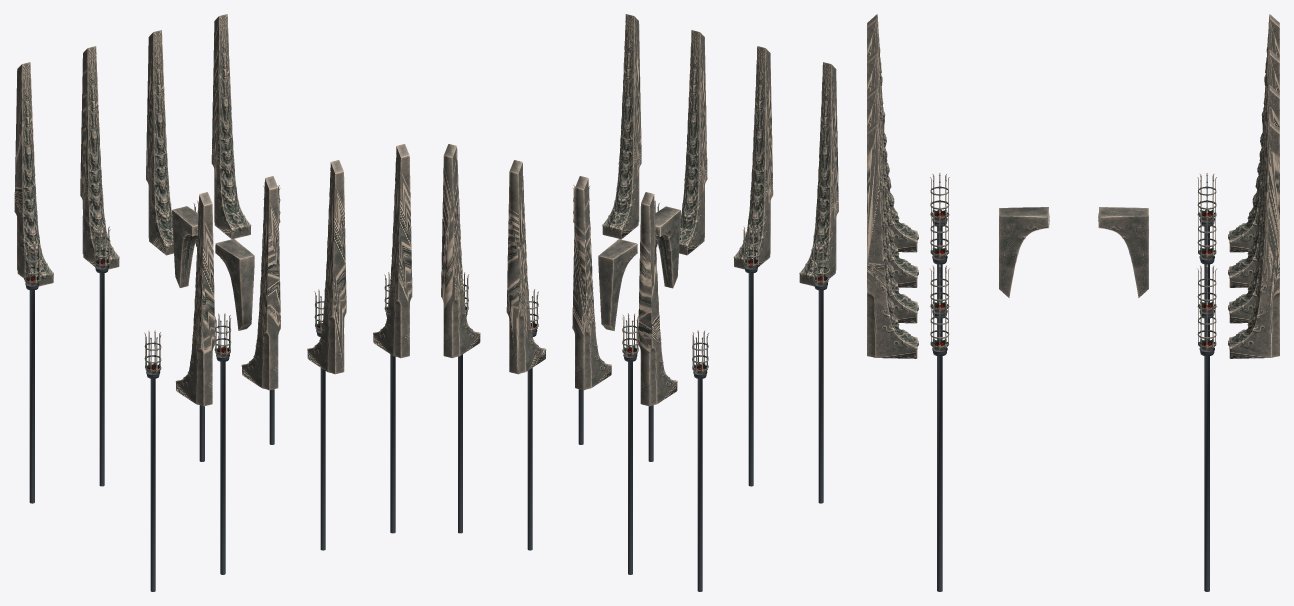
File: Gate_end.glb
3 views of the same model, side by side, from view 1: azimuth 30°, elevation 25°; view 2: azimuth 150°, elevation 25°; view 3: azimuth 270°, elevation 25° (orthographic). The views are drawn at different scales.
Parts seen in each view (by area): view 1: Gate_End; view 2: Gate_End; view 3: Gate_End.
Part boxes in pixels (x1,y1,x2,y2): Gate_End: (14,14,412,591); Gate_End: (441,14,838,591); Gate_End: (867,14,1279,591).
Size of the model in its own units: 0.9792 by 1.51 by 1.24.
Materials: 4 (3 with a texture image).
